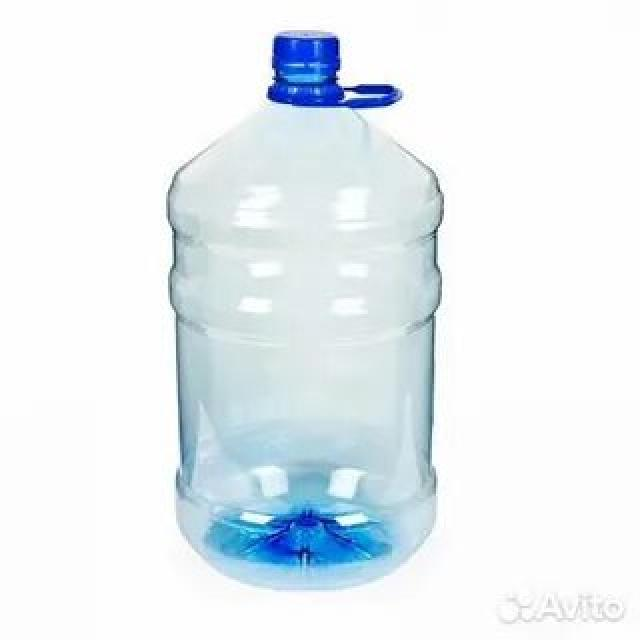blue: (163, 86, 445, 592)
